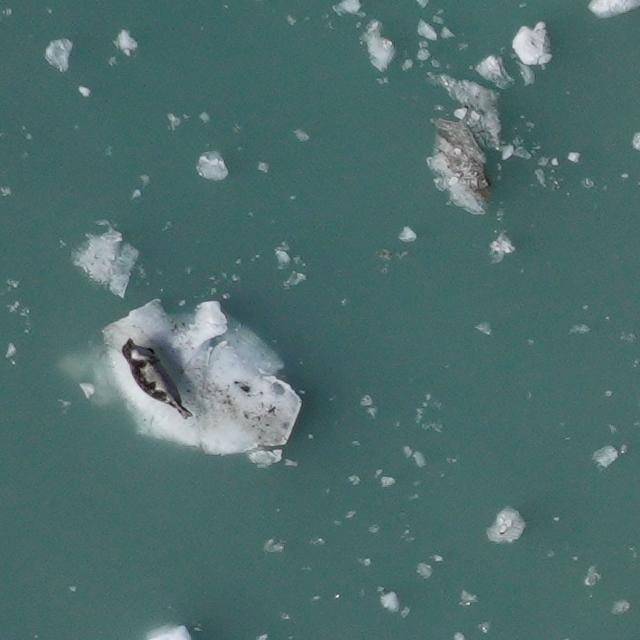seal: (118, 335, 198, 423)
